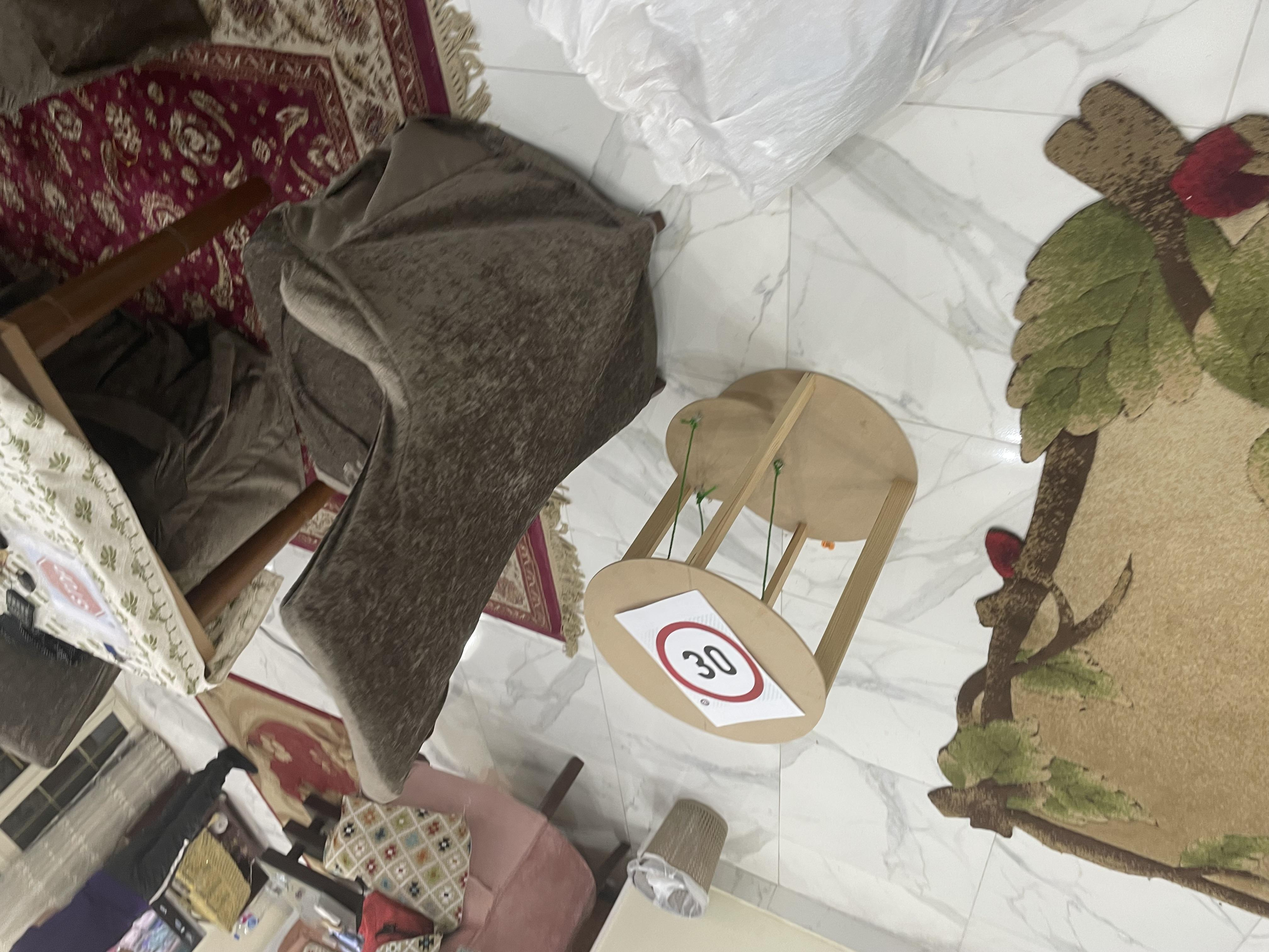30-speed: (321, 484, 454, 579)
